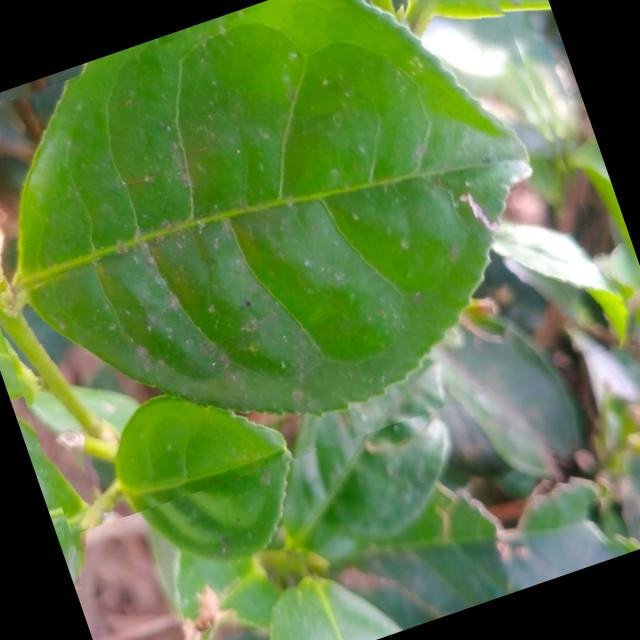Category D(7+ days, Not for Tea): (0, 0, 634, 535)
